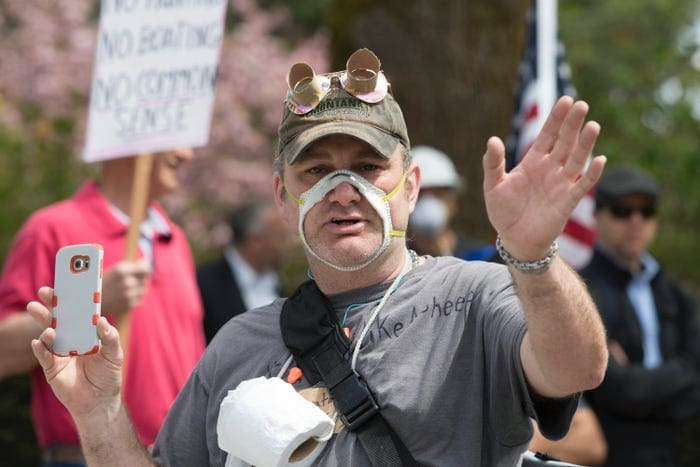with_incorrect_mask: (285, 141, 400, 267)
